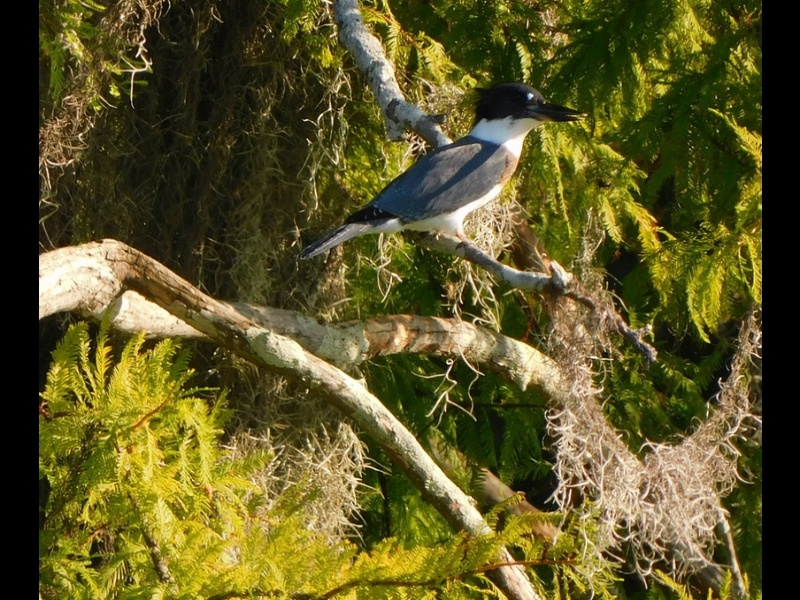kingfisher: (304, 80, 589, 263)
